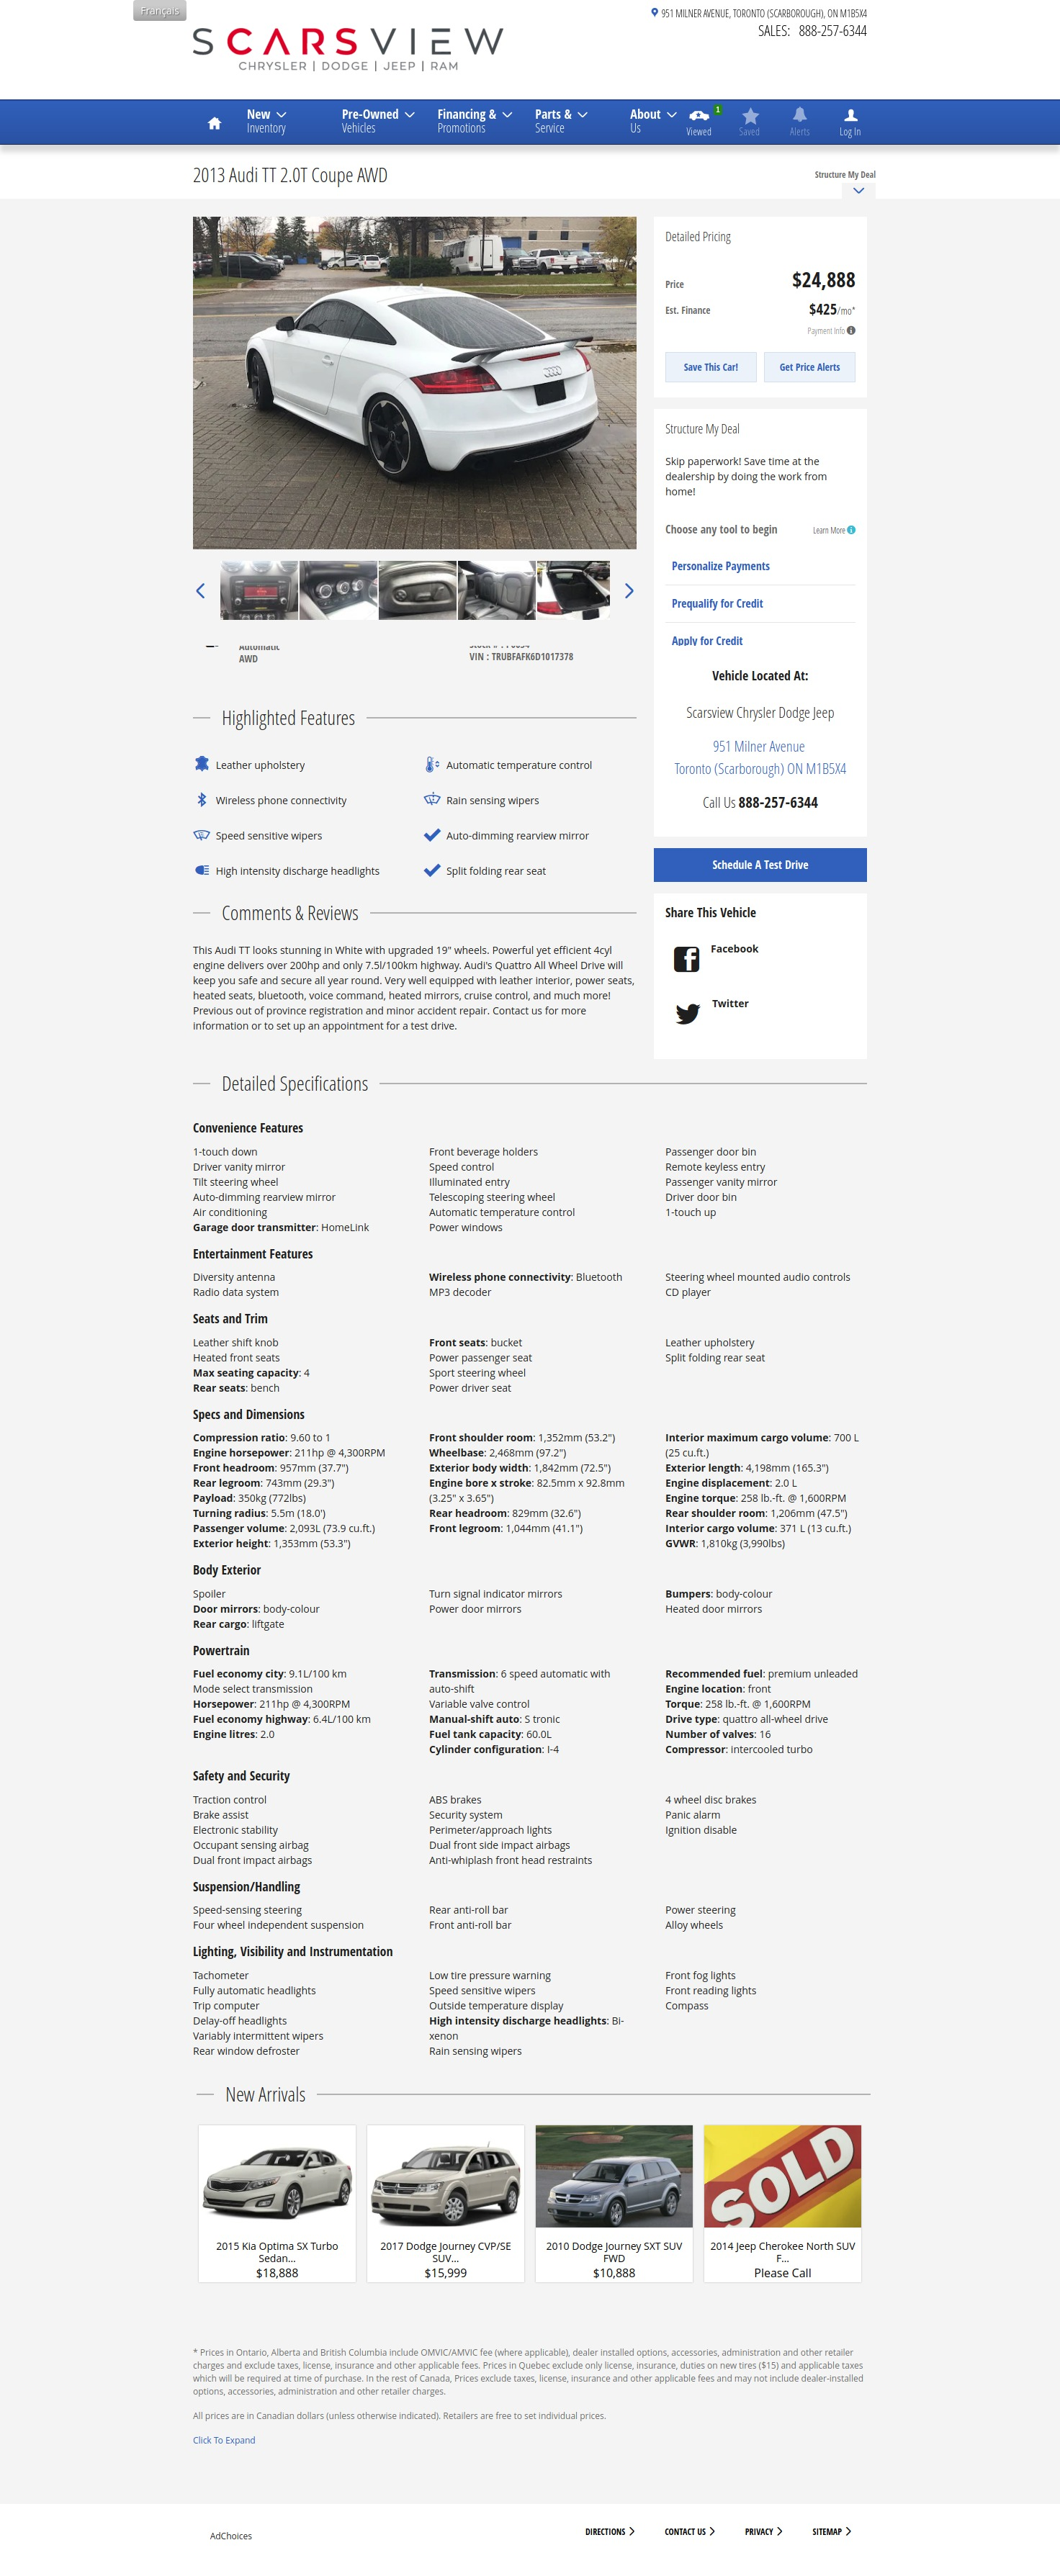car: (623, 583, 634, 600)
